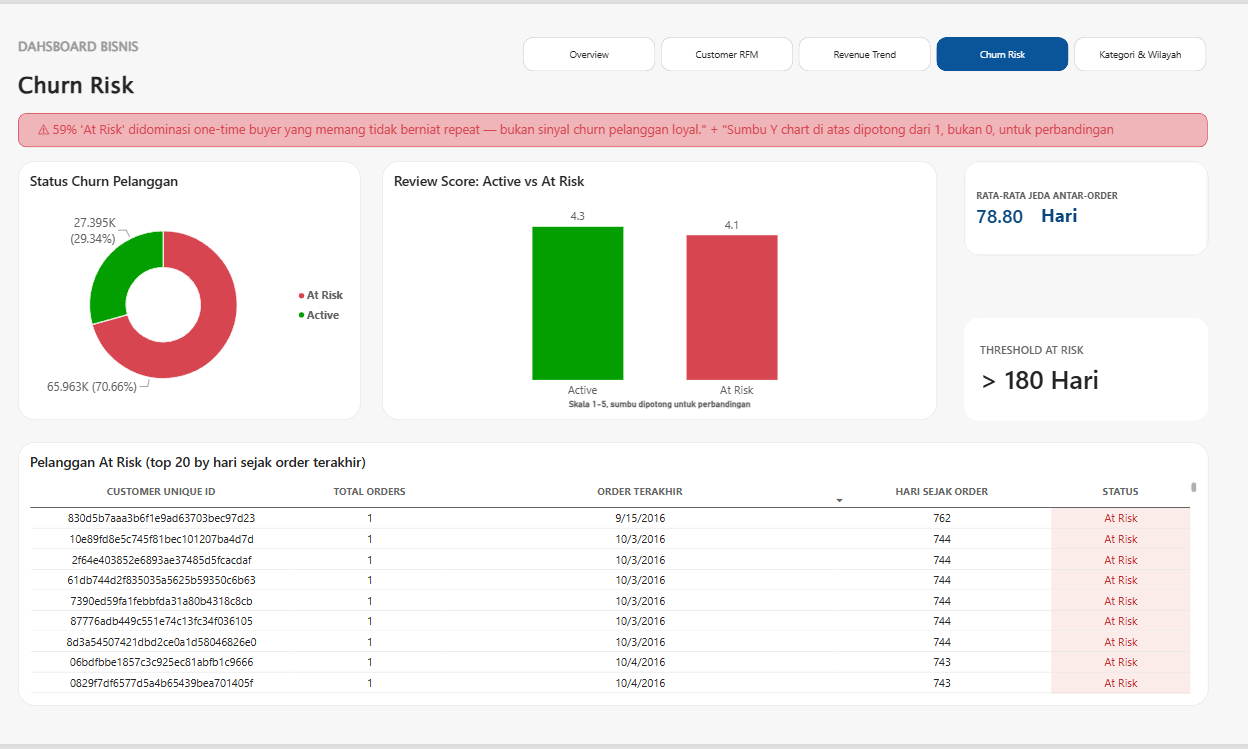

The page's visual inventory and layout, read from the dashboard file:
{"tool":"powerbi","page":{"name":"Churn Risk","canvas":[1920,1080],"ordinal":3},"visuals":[{"type":"donutChart","title":"Status Churn Pelanggan","fields":{"Category":["ChurnStatus.churn_status"],"Y":["CountNonNull(ChurnStatus.customer_unique_id)"]},"box":[91.7,228.3,500,378.3],"z":0},{"type":"clusteredColumnChart","title":"Review Score: Active vs At Risk","fields":{"Category":["ReviewChurn.churn_status"],"Y":["Sum(ReviewChurn.rata_rata_reviews_score)"]},"box":[623.3,228.3,810,378.3],"z":1000},{"type":"cardVisual","title":"RATA-RATA JEDA ANTAR ORDER","fields":{"Data":["Sum(AvgGap.rata_rata_jeda_hari)"]},"box":[1471.7,228.3,356.7,138.3],"z":2000},{"type":"textbox","box":[1584.6,288.8,65,43.3],"z":3000},{"type":"tableEx","title":"Pelanggan At Risk (top 20 by hari sejak order terakhir)","fields":{"Values":["ChurnStatus.customer_unique_id","Sum(ChurnStatus.total_orders)","ChurnStatus.last_order_date","Sum(ChurnStatus.hari_sejak_order_terakhir)","ChurnStatus.churn_status"]},"box":[91.7,638.3,1736.7,385],"z":4000},{"type":"shape","box":[1472.1,457.5,356.2,150],"z":5000},{"type":"textbox","box":[1495.6,493.3,228.8,38.8],"z":6000},{"type":"textbox","box":[1496.1,522.6,228.8,57.5],"z":7000},{"type":"shape","box":[91.9,158.6,1735.7,50],"z":8000},{"type":"textbox","box":[120.5,168.6,1584.3,30],"z":9000},{"type":"textbox","box":[91.7,48.3,500,101.7],"z":10000},{"type":"pageNavigator","box":[828.7,48.1,1000,50],"z":11000}]}

Visuals, with their boxes on the page's 1920x1080 design canvas (x1, y1, x2, y2). These are canvas units, not pixel positions in the 1248x749 screenshot, which may show the page scaled, cropped or inside an application window:
"Status Churn Pelanggan" donutChart: crop(92, 228, 592, 607)
"Review Score: Active vs At Risk" clusteredColumnChart: crop(623, 228, 1433, 607)
"RATA-RATA JEDA ANTAR ORDER" cardVisual: crop(1472, 228, 1828, 367)
textbox: crop(1585, 289, 1650, 332)
"Pelanggan At Risk (top 20 by hari sejak order terakhir)" tableEx: crop(92, 638, 1828, 1023)
shape: crop(1472, 458, 1828, 608)
textbox: crop(1496, 493, 1724, 532)
textbox: crop(1496, 523, 1725, 580)
shape: crop(92, 159, 1828, 209)
textbox: crop(120, 169, 1705, 199)
textbox: crop(92, 48, 592, 150)
pageNavigator: crop(829, 48, 1829, 98)
